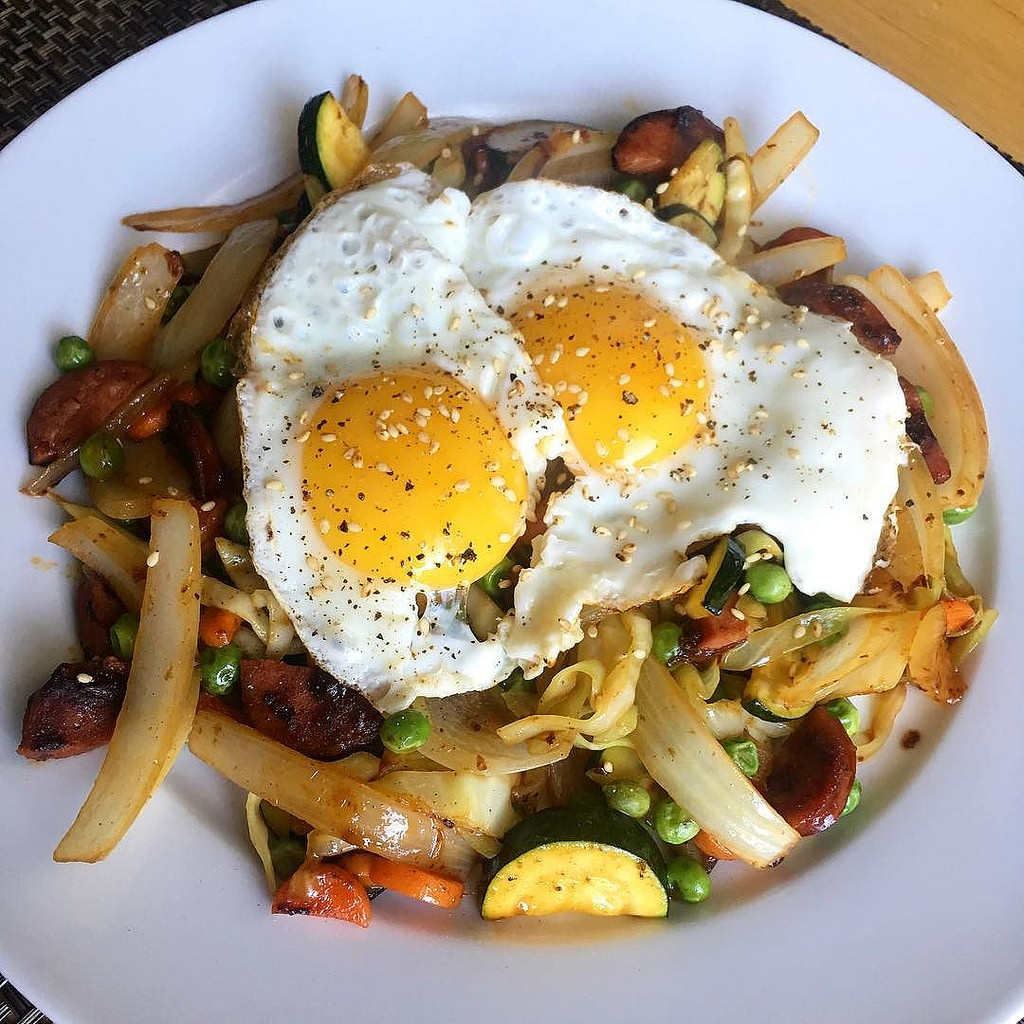fried egg: (273, 194, 852, 589)
